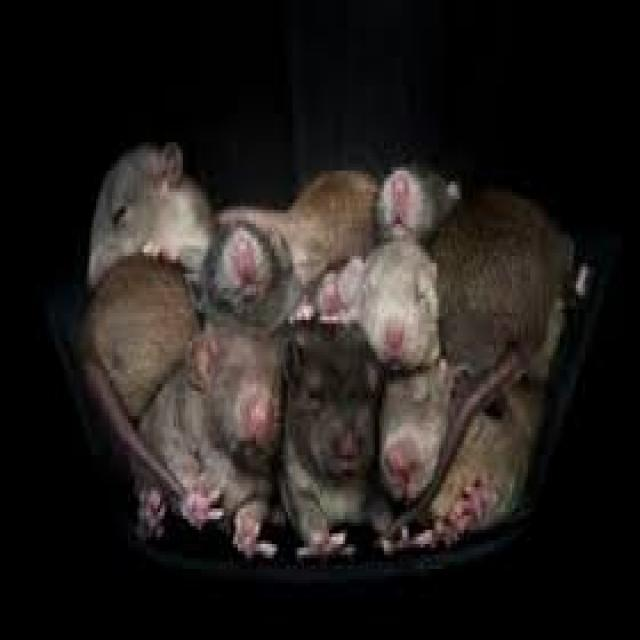Rat: (101, 124, 595, 534)
